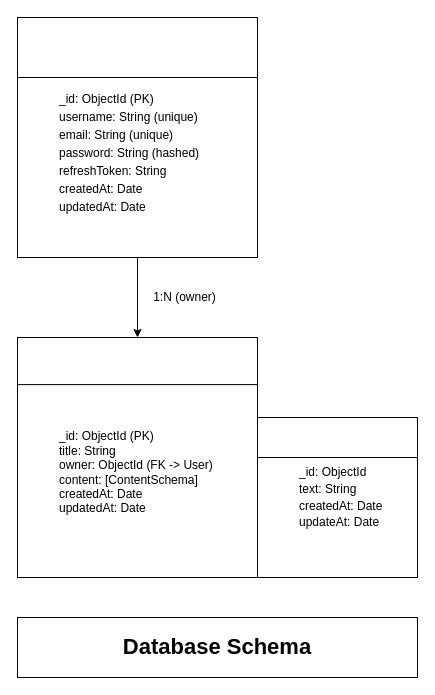
Image size: 435x695. Some labels were removed from this diagram. Here are the shapes that lost their labels. From the top down, the centre of each, then its label:
At point (137, 47): "User".
At point (137, 360): "Note".
At point (337, 437): "Content (Subdocument)".
